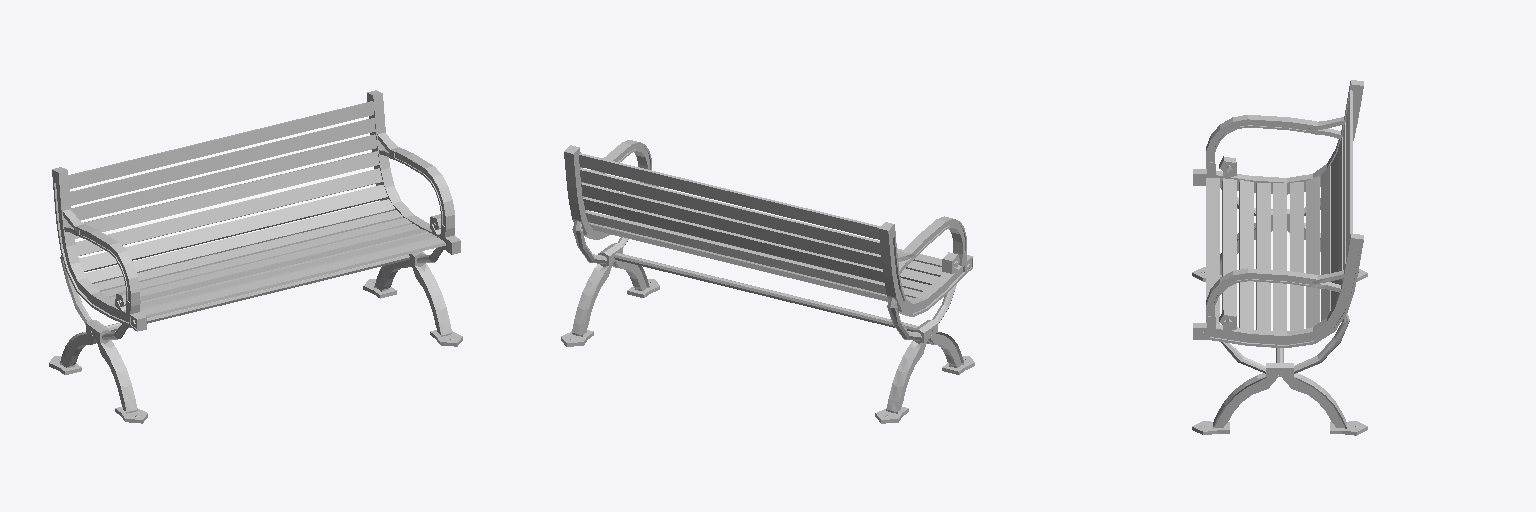
Rendered from white_bench.obj.
3 renders of one model, left to right at view 1: azimuth 30°, elevation 25°; view 2: azimuth 150°, elevation 25°; view 3: azimuth 270°, elevation 25°, orthographic.
Visible parts, largest first — view 1: Bench_HighRes; view 2: Bench_HighRes; view 3: Bench_HighRes.
Part boxes in pixels (left/top/right/bottom): Bench_HighRes: left=49, top=90, right=462, bottom=423; Bench_HighRes: left=561, top=140, right=974, bottom=423; Bench_HighRes: left=1192, top=80, right=1367, bottom=435.
Size of the model in its own units: 8.8 by 4.84 by 3.97.